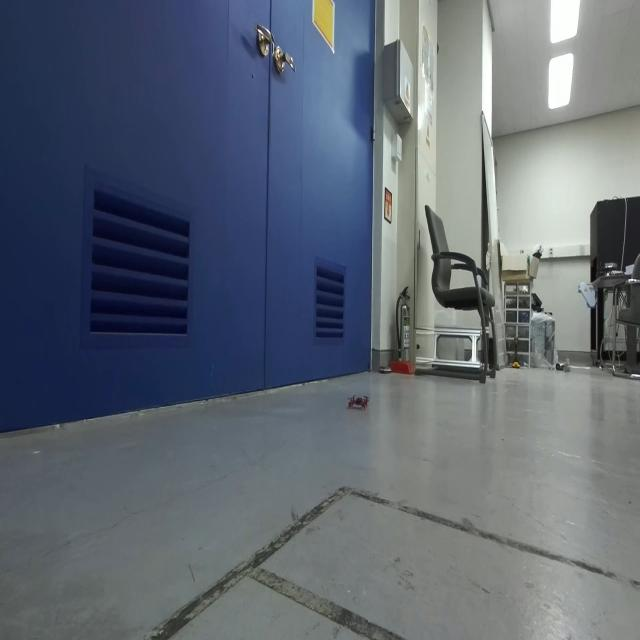crazyflie: (346, 388, 372, 414)
